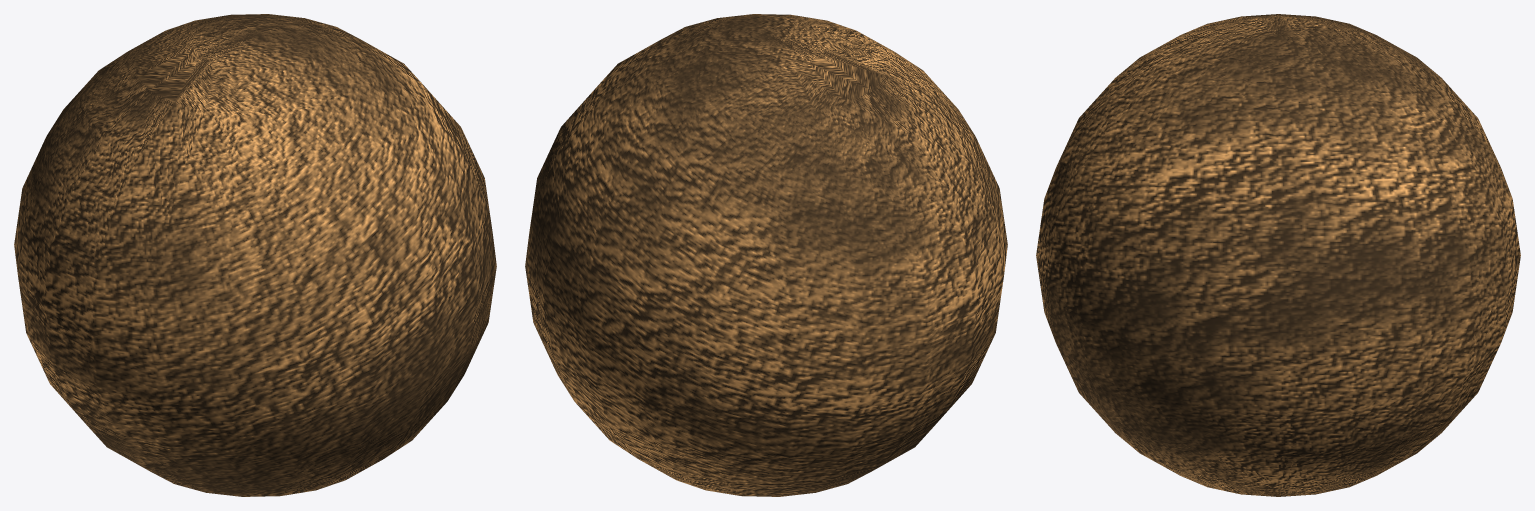
File: yellowplanet.glb
3 views of the same model, side by side, from view 1: azimuth 30°, elevation 25°; view 2: azimuth 150°, elevation 25°; view 3: azimuth 270°, elevation 25° (orthographic).
Visible parts, largest first — view 1: planet; view 2: planet; view 3: planet.
Part boxes in pixels (x1=…): planet: x1=14, y1=14, x2=496, y2=496; planet: x1=525, y1=14, x2=1007, y2=496; planet: x1=1036, y1=14, x2=1520, y2=496.
Size of the model in its own units: 2 by 2 by 2.
Materials: 1 (1 with a texture image).
